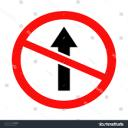NoSeguir: (10, 7, 120, 110)
